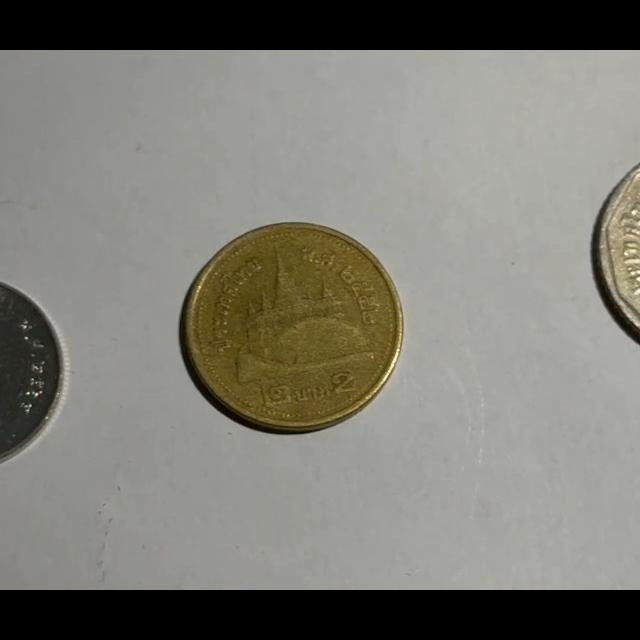1-baht: (0, 275, 64, 474)
2-baht: (182, 224, 399, 432)
5-baht: (574, 129, 640, 376)
